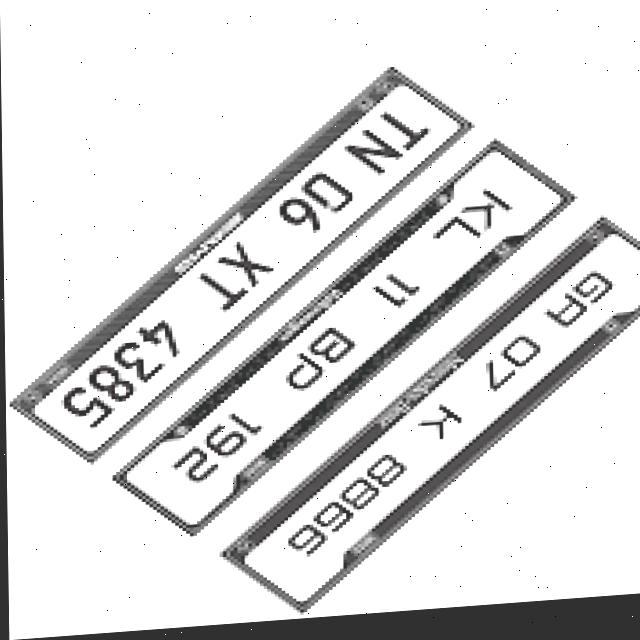plate: (64, 131, 595, 559), (1, 60, 494, 483), (196, 213, 640, 629)
